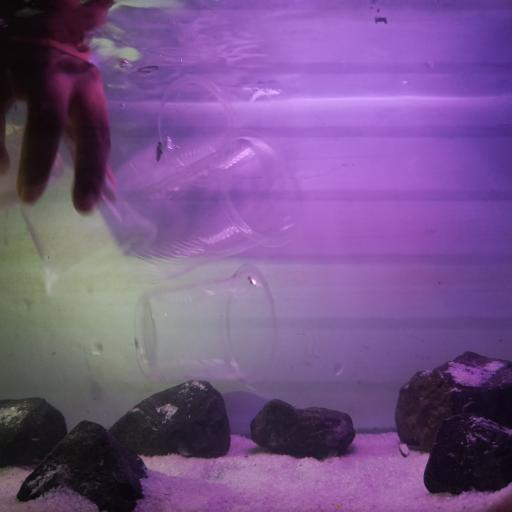plastic_cup: (120, 127, 308, 281), (3, 129, 157, 300), (134, 261, 279, 394), (158, 74, 288, 189)
